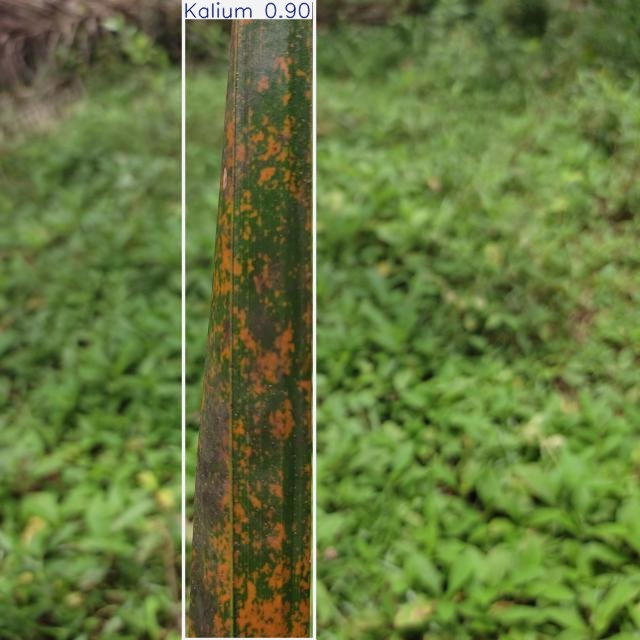Kalium: (183, 0, 315, 640)
